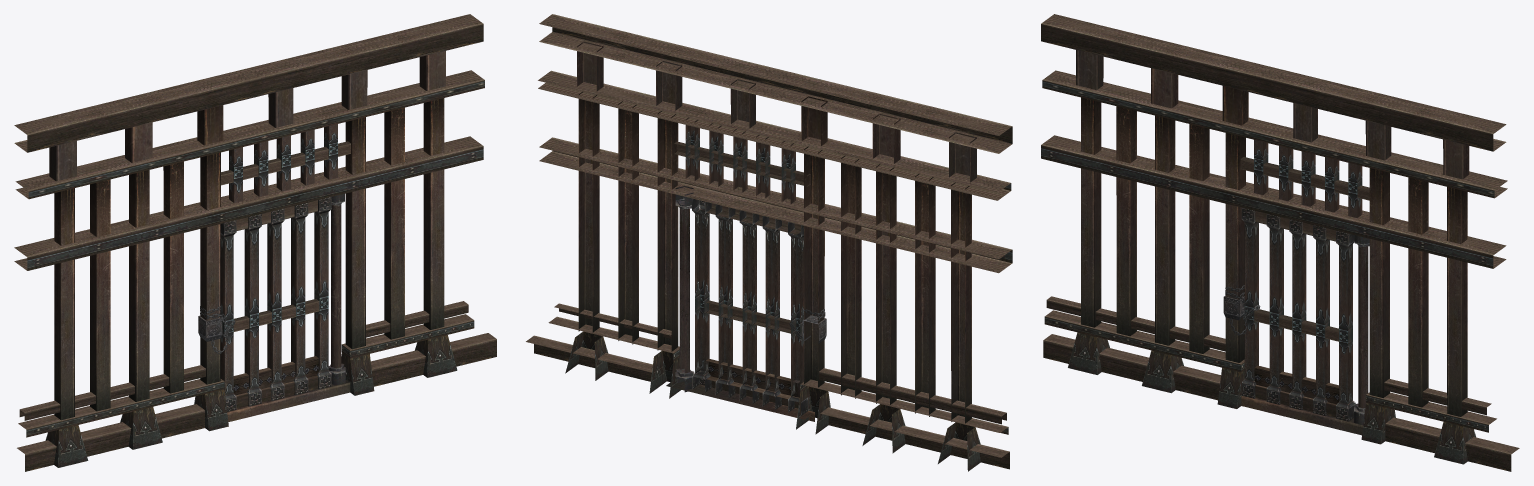
File: fb_jianyu_tielan02.FBX
The picture shows the model from 3 angles, left to right: view 1: azimuth 30°, elevation 25°; view 2: azimuth 150°, elevation 25°; view 3: azimuth 330°, elevation 25°; orthographic projection.
Visible parts, largest first — view 1: fb_jianyu_tielan02; view 2: fb_jianyu_tielan02; view 3: fb_jianyu_tielan02.
Boxes of the visible parts, box(x1,y1,x2,y2) form: fb_jianyu_tielan02: box(14, 14, 496, 471); fb_jianyu_tielan02: box(526, 14, 1012, 471); fb_jianyu_tielan02: box(1041, 14, 1519, 471).
Bounding box in the file's own units: 957 × 656 × 61.32.
